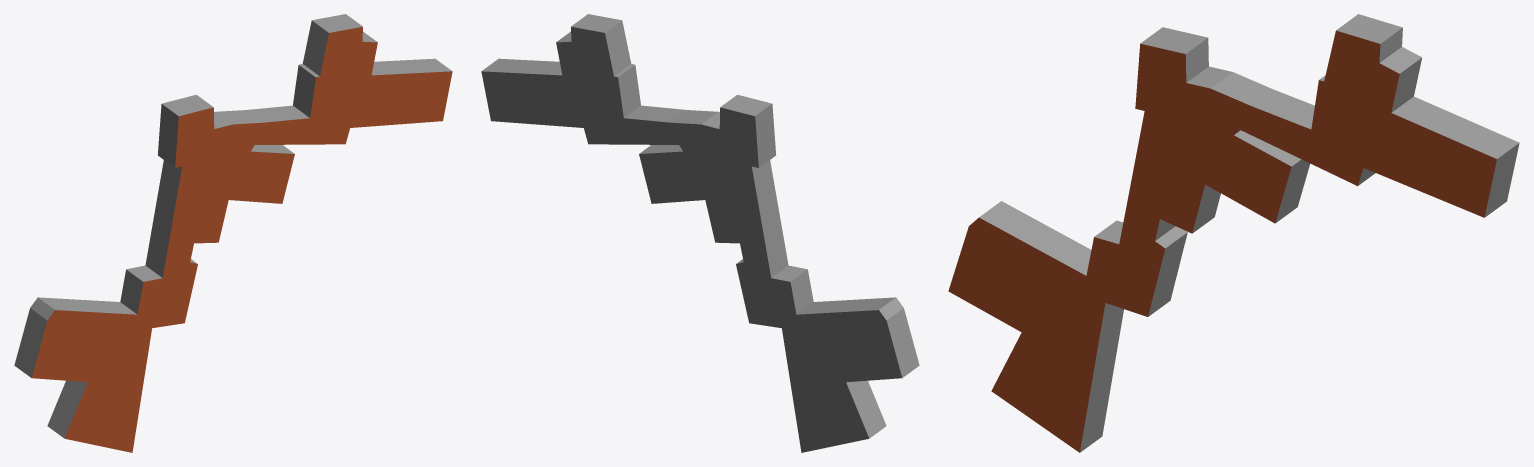
File: construction_2612_assumed_A_Casa_h6m.obj
The picture shows the model from 3 angles, left to right: view 1: azimuth 30°, elevation 25°; view 2: azimuth 150°, elevation 25°; view 3: azimuth 330°, elevation 25°; orthographic projection. The views are drawn at different scales.
Parts seen in each view (by area): view 1: construction_2612_assumed_A_Casa; view 2: construction_2612_assumed_A_Casa; view 3: construction_2612_assumed_A_Casa.
Boxes of the visible parts, box(x1,y1,x2,y2) form: construction_2612_assumed_A_Casa: box(14, 14, 452, 452); construction_2612_assumed_A_Casa: box(481, 14, 919, 452); construction_2612_assumed_A_Casa: box(948, 14, 1519, 452).
Size of the model in its own units: 84.31 by 71.2 by 6.
